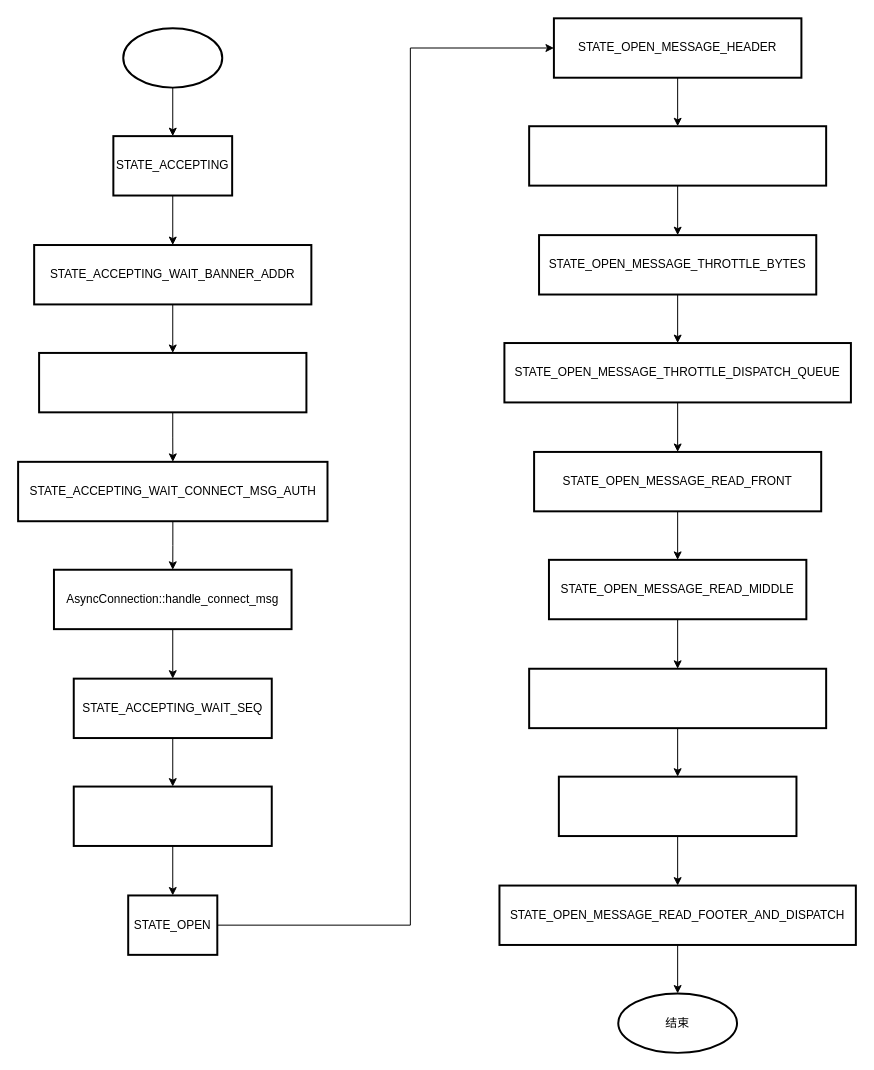
Some shapes in this 874 by 1070 pixel diagram are drawn without their labels. The centre of each missing label's shape, as x and y in pixels:
"STATE_ACCEPTING_READY" belongs at point 172,815.
"STATE_ACCEPTING_WAIT_CONNECT_MSG" belongs at point 172,382.
"STATE_OPEN_MESSAGE_READ_DATA" belongs at point 677,806.
"STATE_OPEN_MESSAGE_READ_DATA_PREPARE" belongs at point 677,698.
"STATE_OPEN_MESSAGE_THROTTLE_MESSAGE" belongs at point 677,155.
"开始" belongs at point 172,57.
